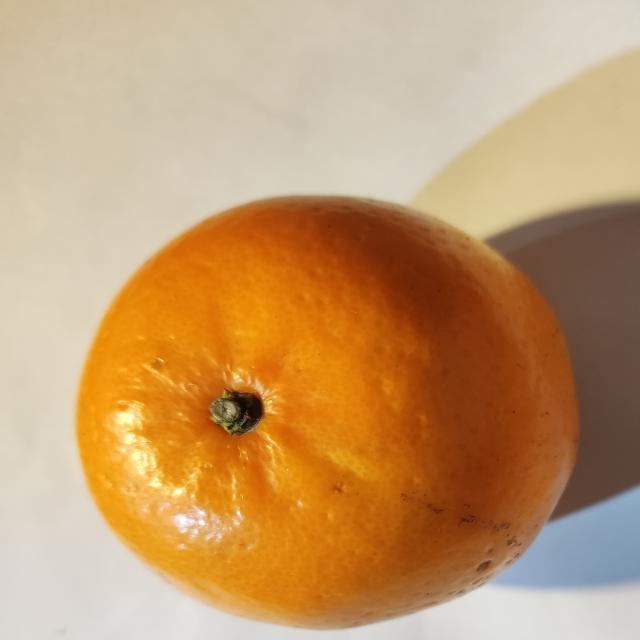orange: (78, 198, 577, 628)
